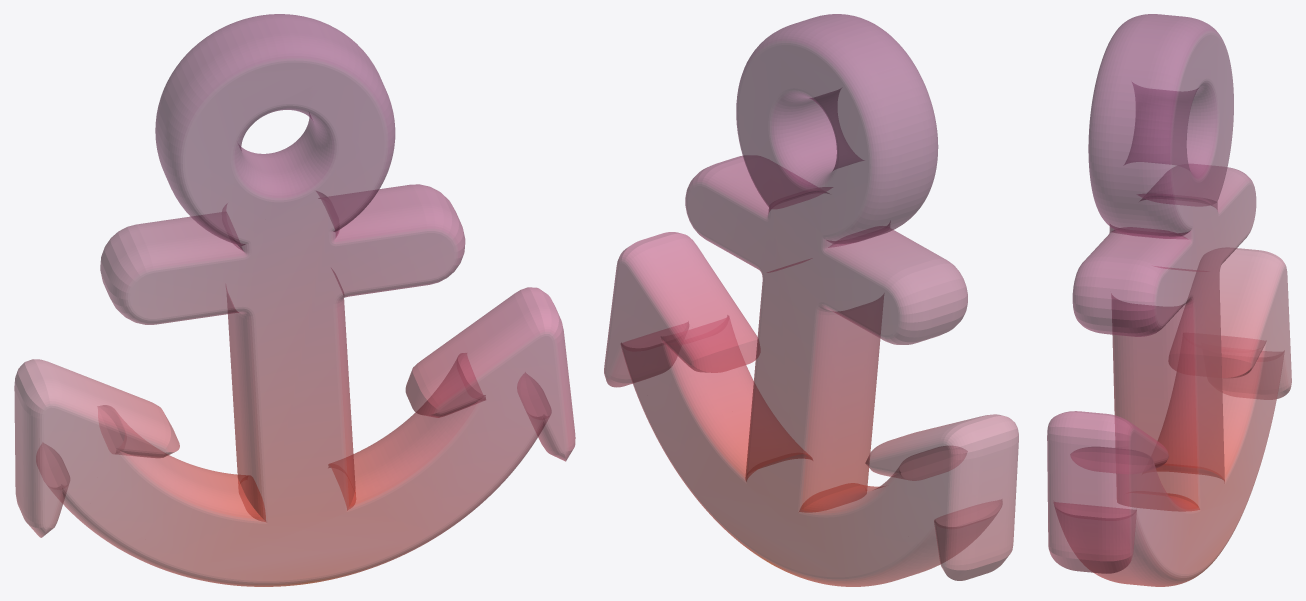
Rendered from anchor.glb.
3 renders of one model, left to right at view 1: azimuth 30°, elevation 25°; view 2: azimuth 150°, elevation 25°; view 3: azimuth 270°, elevation 25°, orthographic. The views are drawn at different scales.
Visible parts, largest first — view 1: anchor; view 2: anchor; view 3: anchor.
Boxes of the visible parts, box(x1,y1,x2,y2) form: anchor: box(14, 14, 575, 586); anchor: box(604, 14, 1018, 586); anchor: box(1047, 14, 1291, 586).
Bounding box in the file's own units: 0.949 × 1.06 × 0.4445.
